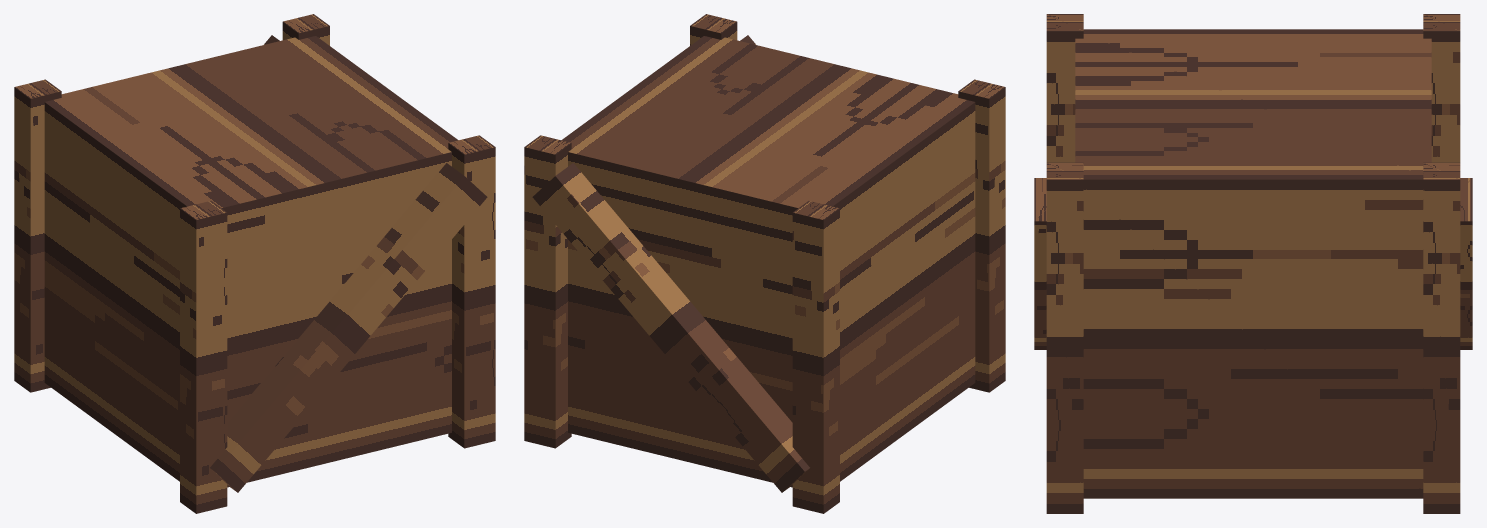
The model's file is crate.glb.
3 views of the same model, side by side, from view 1: azimuth 30°, elevation 25°; view 2: azimuth 150°, elevation 25°; view 3: azimuth 270°, elevation 25° (orthographic). The views are drawn at different scales.
Visible parts, largest first — view 1: crate_wood; view 2: crate_wood; view 3: crate_wood.
Part boxes in pixels (left/top/right/bottom): crate_wood: left=14, top=14, right=495, bottom=513; crate_wood: left=524, top=14, right=1005, bottom=513; crate_wood: left=1034, top=14, right=1472, bottom=513.
Size of the model in its own units: 0.96 by 0.9 by 1.07.
1 material, 1 textured.
